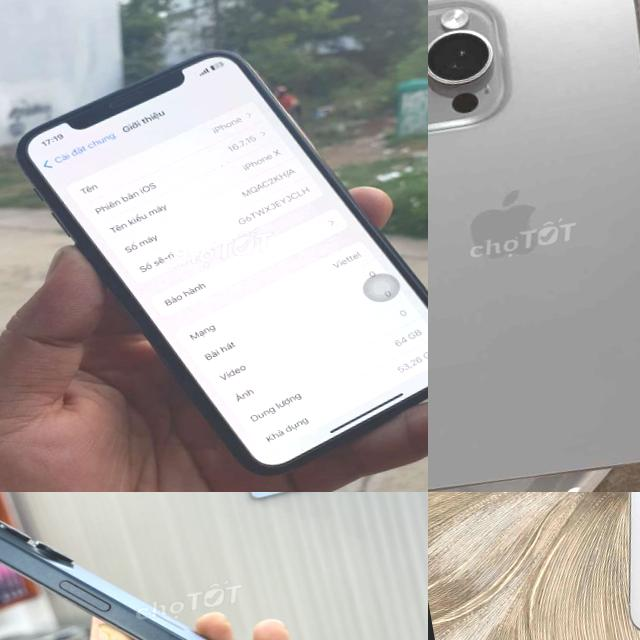gen_14: (592, 492, 640, 640)
gen_15: (428, 0, 640, 492), (0, 492, 369, 640)
gen_x_xs: (17, 50, 428, 475)
